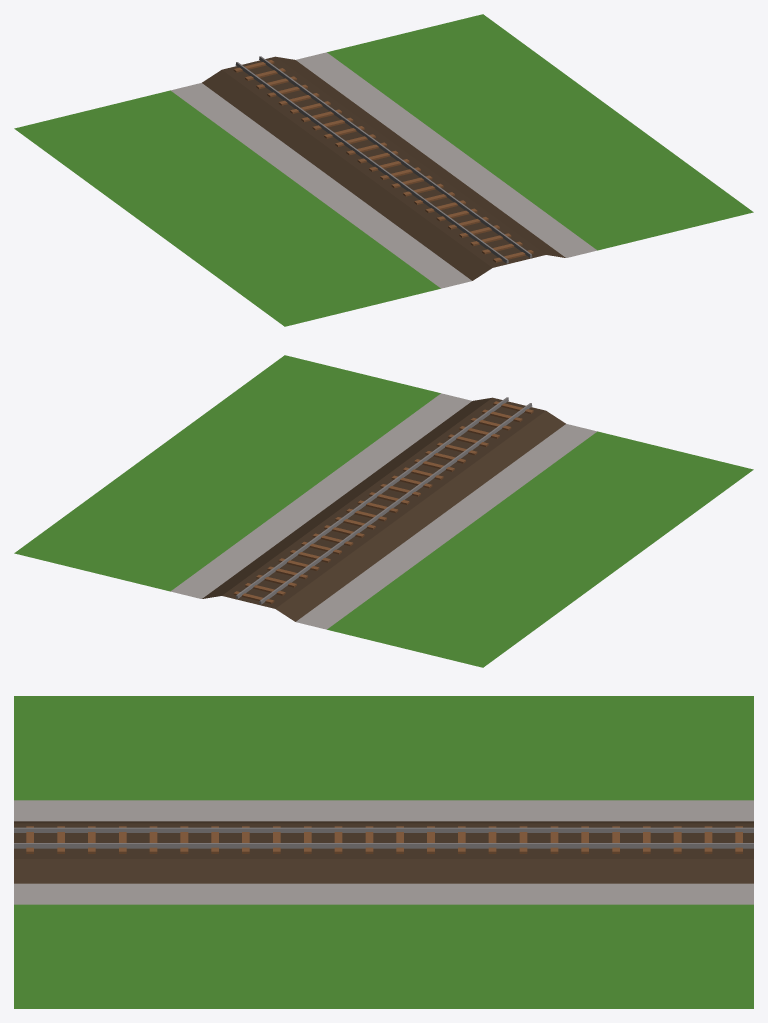
The model's file is tiles-nb_tile-rail-straight-nb.fbx.
3 renders of one model, top to bottom at view 1: azimuth 30°, elevation 25°; view 2: azimuth 150°, elevation 25°; view 3: azimuth 270°, elevation 25°, orthographic. The views are drawn at different scales.
Parts seen in each view (by area): view 1: tiles_nb_tile_rail_straight_nb; view 2: tiles_nb_tile_rail_straight_nb; view 3: tiles_nb_tile_rail_straight_nb.
Boxes of the visible parts, x1,y1,x2,y2 form: tiles_nb_tile_rail_straight_nb: (14, 14, 753, 326); tiles_nb_tile_rail_straight_nb: (14, 355, 753, 667); tiles_nb_tile_rail_straight_nb: (14, 696, 753, 1008).
Size of the model in its own units: 200 by 4.97 by 200.
